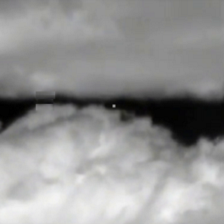Target: (111, 103, 116, 108)
